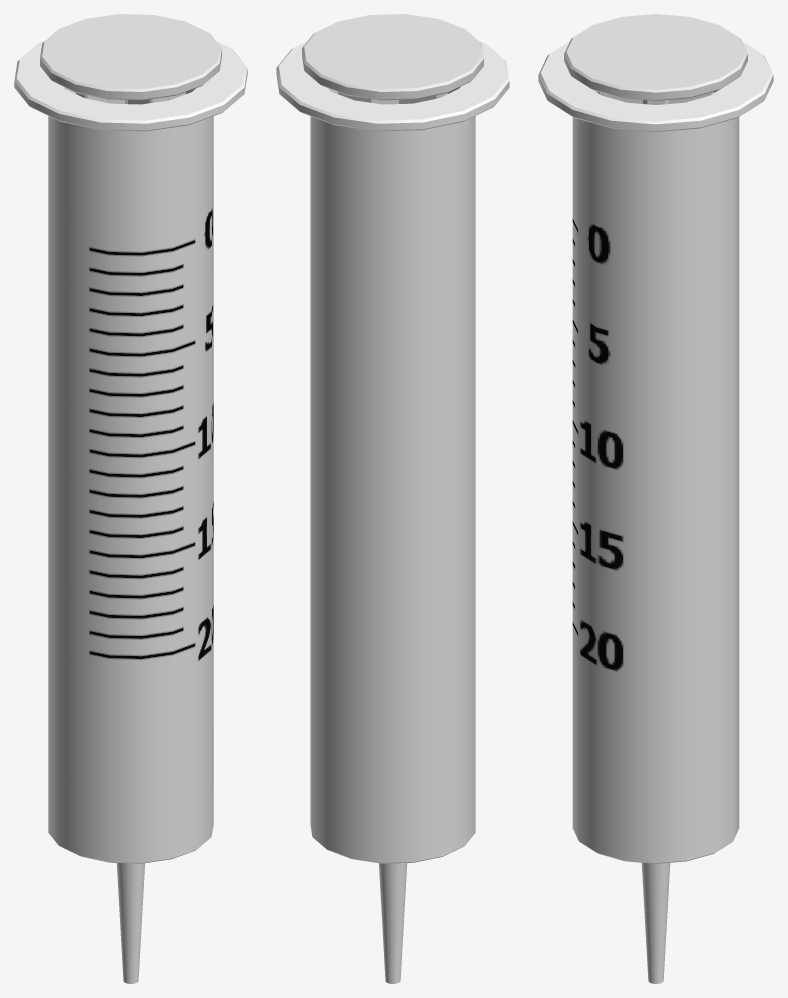
3 renders of one model, left to right at view 1: azimuth 30°, elevation 25°; view 2: azimuth 150°, elevation 25°; view 3: azimuth 270°, elevation 25°, orthographic.
Visible parts, largest first — view 1: test_object_B_out, test_object_B_in; view 2: test_object_B_out, test_object_B_in; view 3: test_object_B_out, test_object_B_in.
Part boxes in pixels (<box>): test_object_B_out: <box>14,41,247,983</box>; test_object_B_in: <box>40,14,221,104</box>; test_object_B_out: <box>276,41,509,983</box>; test_object_B_in: <box>302,14,483,104</box>; test_object_B_out: <box>538,41,773,983</box>; test_object_B_in: <box>564,14,747,104</box>.
Size of the model in its own units: 2.82 by 12.28 by 2.82.
